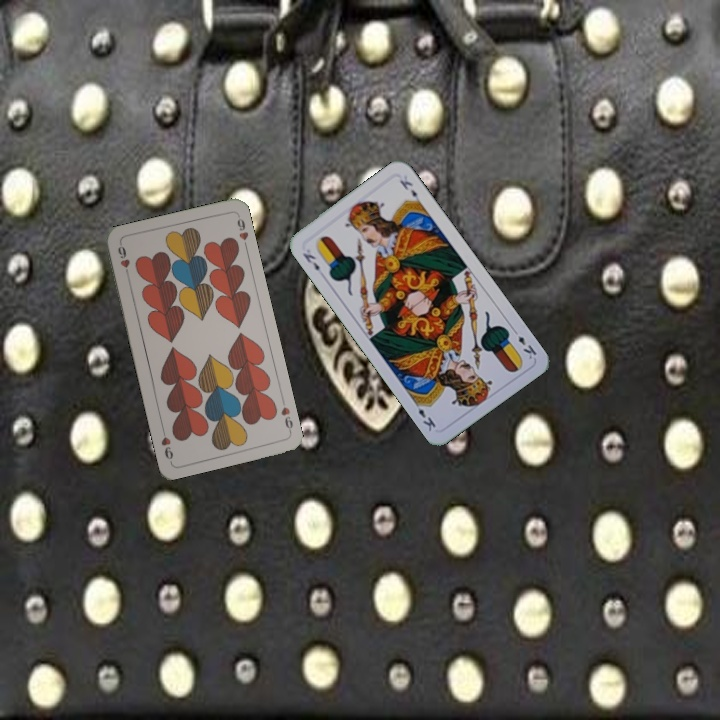EK: (508, 325, 539, 362), (298, 249, 322, 274)
H9: (114, 240, 132, 280), (277, 395, 295, 435)
